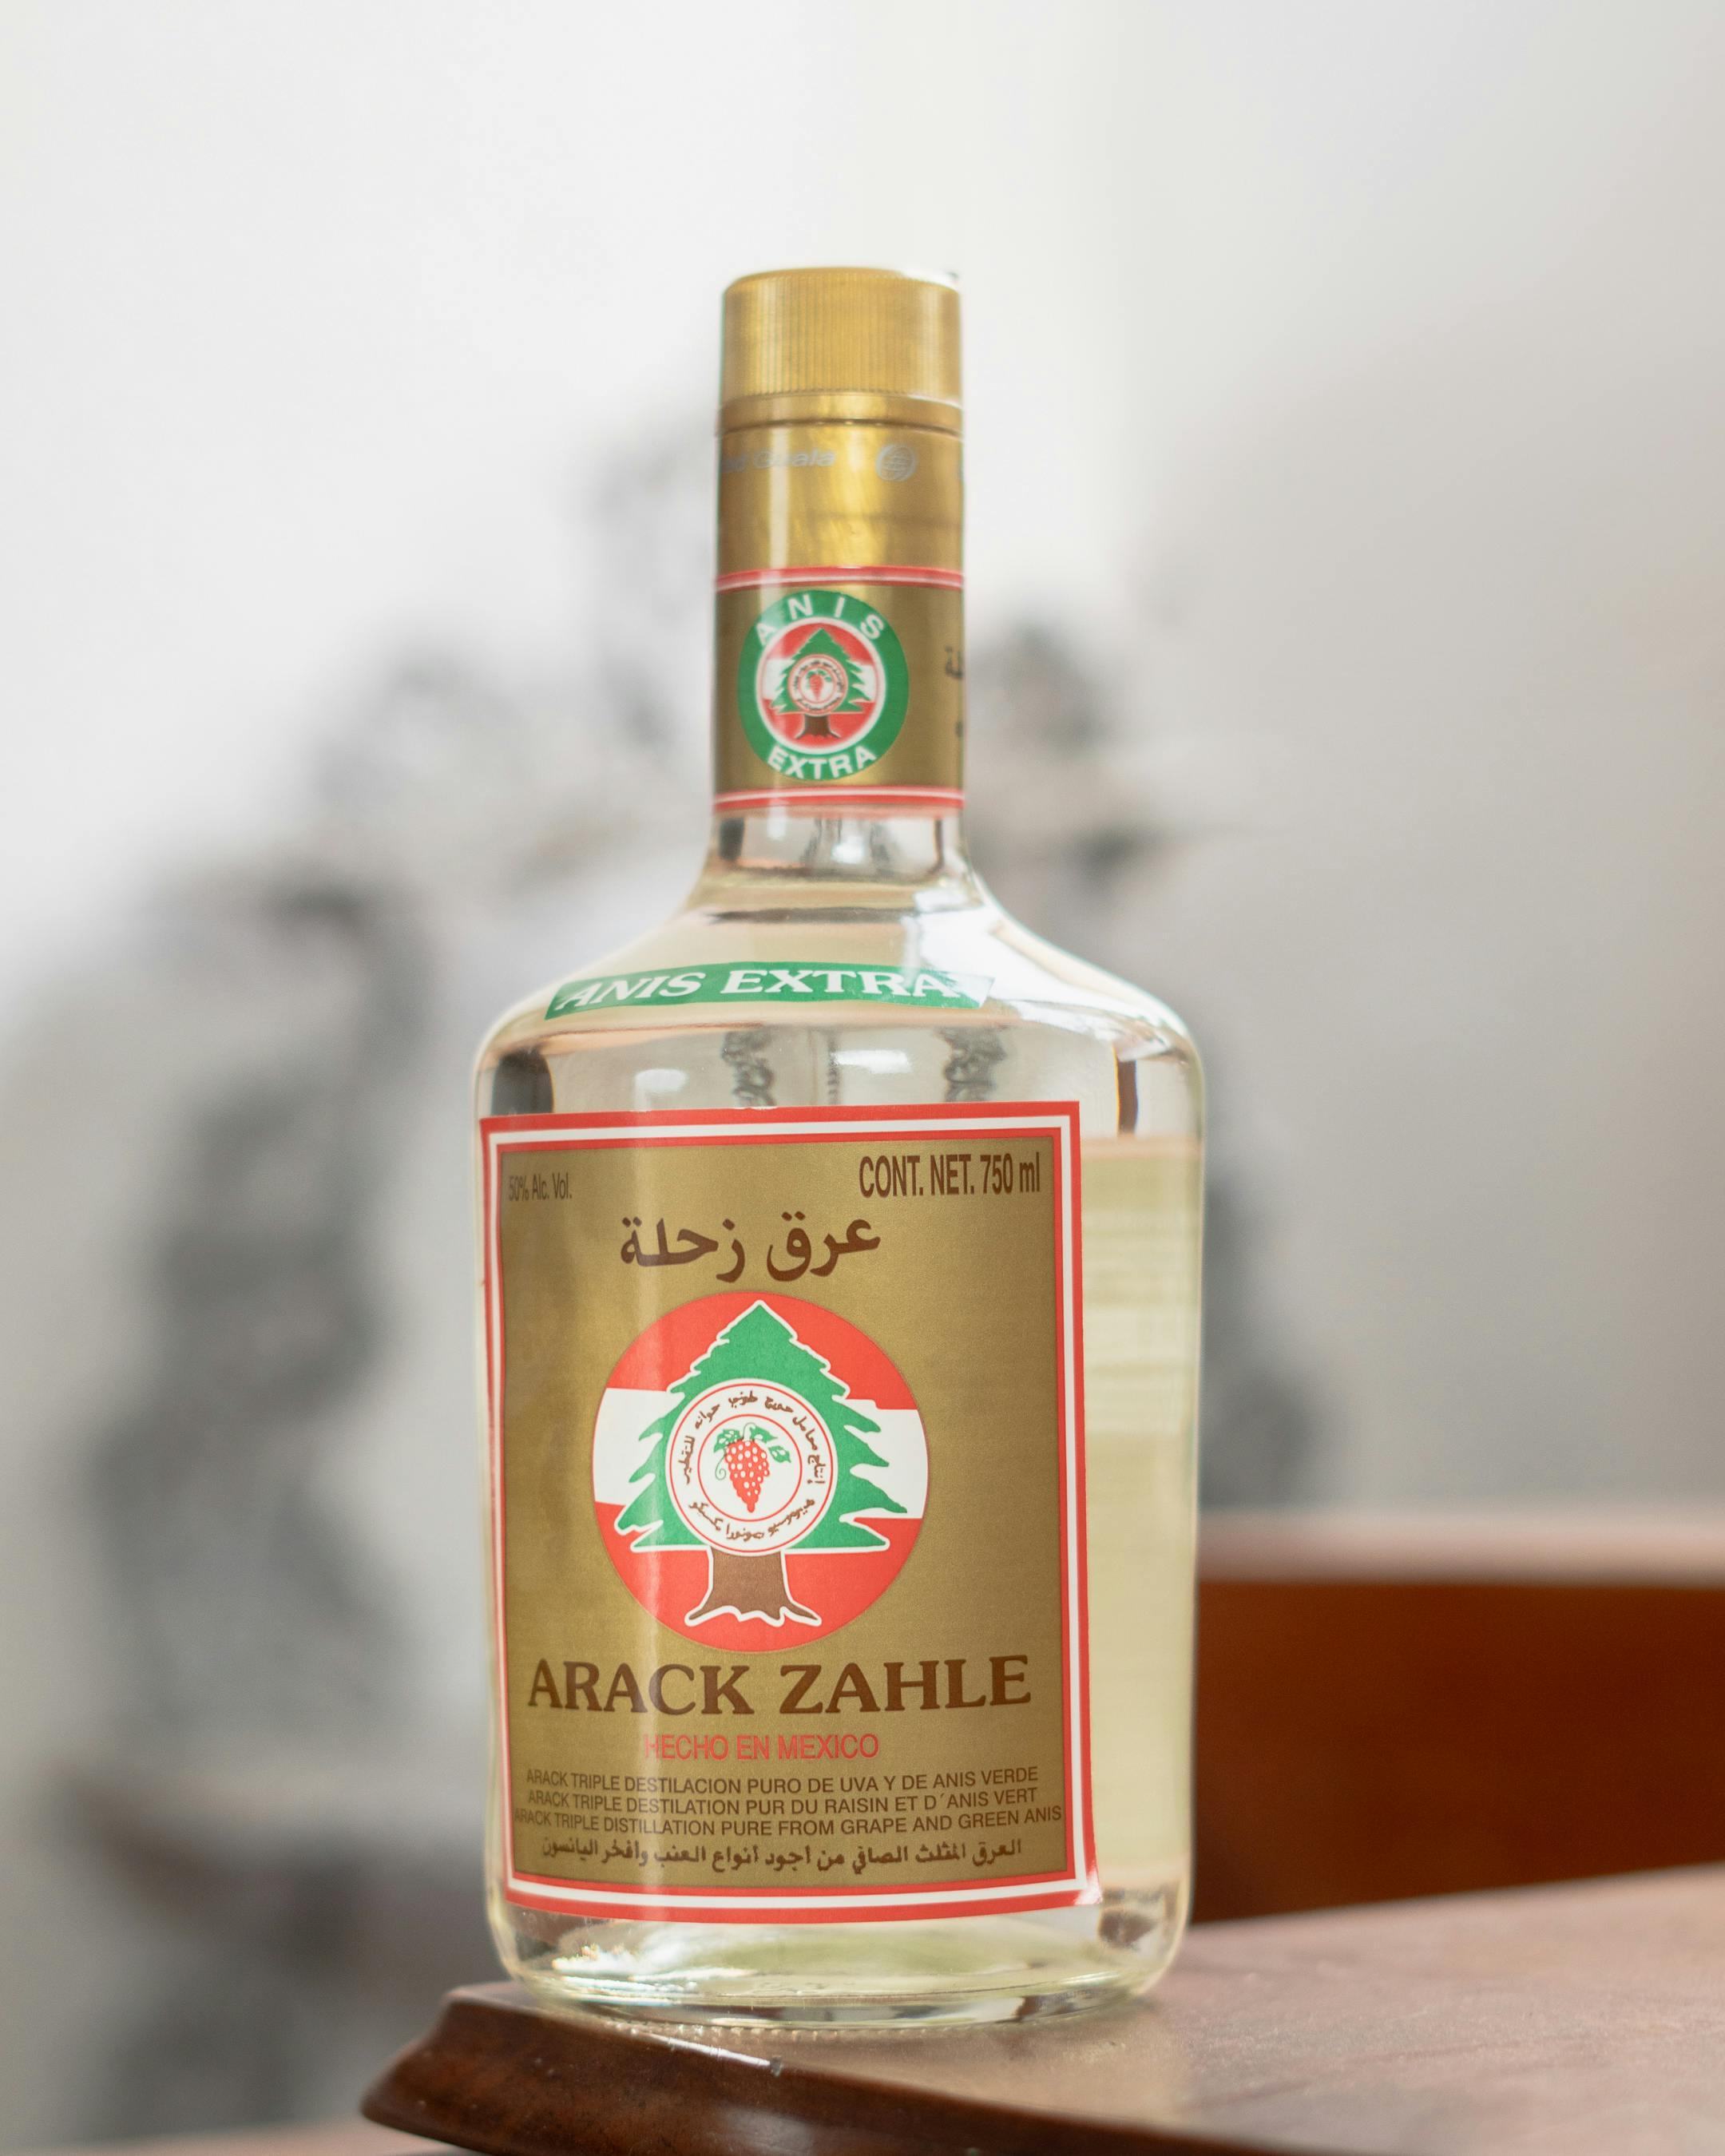glass: (484, 289, 1202, 1980)
